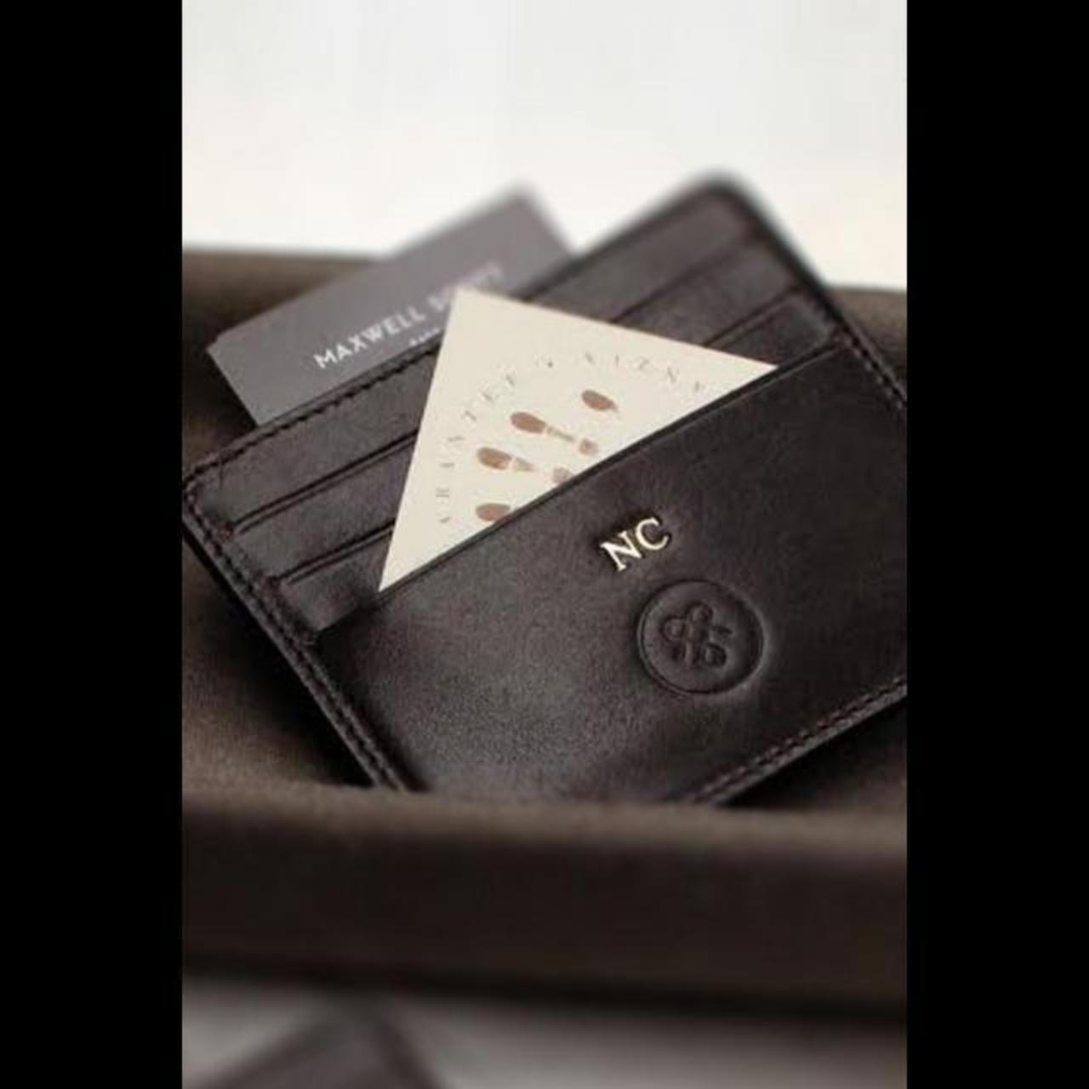wallet: (174, 175, 907, 830)
